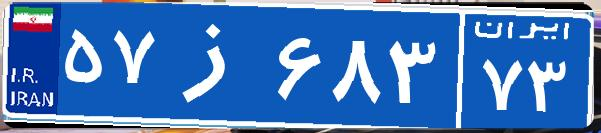3: (385, 28, 445, 110), (525, 38, 570, 115)
5: (57, 26, 110, 107)
6: (273, 28, 330, 110)
7: (475, 38, 525, 113), (110, 28, 158, 105)
8: (330, 28, 385, 110)
ز: (158, 15, 273, 115)
